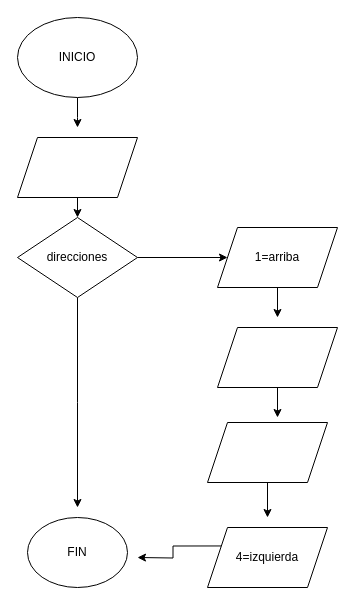
Image size: 355x605. Some labels were removed from this diagram. The box of each missing label's shape, as (x1, y1, x2, y2) in pixels:
2=derecha: (216, 326, 338, 388)
3=abajo: (206, 422, 328, 482)
leer direcciones: (16, 136, 138, 198)
